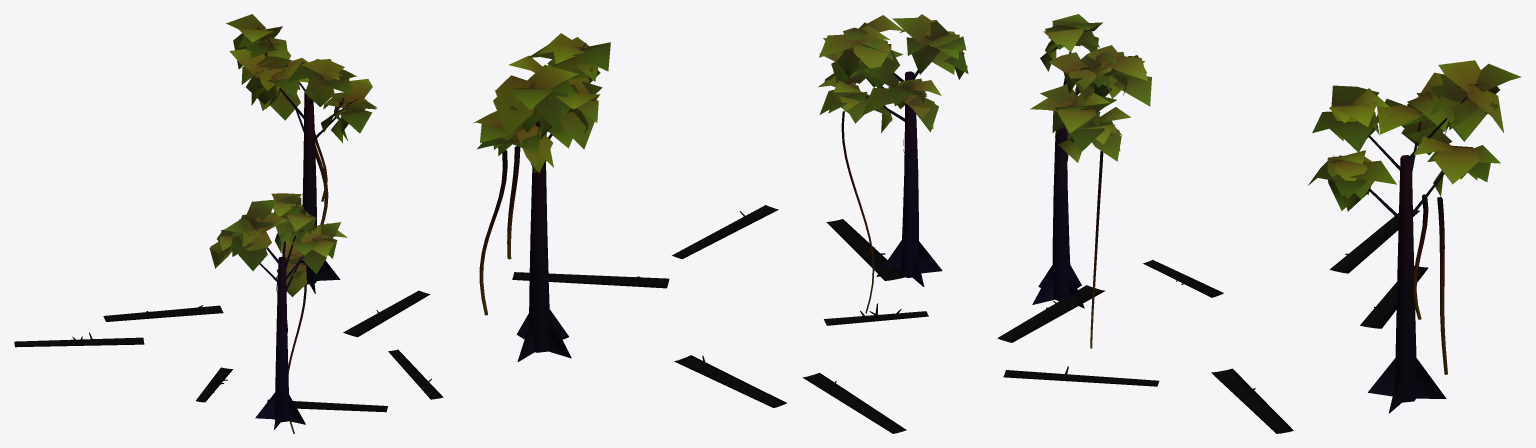
Rendered from patch_deadfall_far.glb.
3 renders of one model, left to right at view 1: azimuth 30°, elevation 25°; view 2: azimuth 150°, elevation 25°; view 3: azimuth 270°, elevation 25°, orthographic. The views are drawn at different scales.
Visible parts, largest first — view 1: patch_deadfall_far; view 2: patch_deadfall_far; view 3: patch_deadfall_far.
Boxes of the visible parts, x1,y1,x2,y2 form: patch_deadfall_far: (14, 14, 443, 433); patch_deadfall_far: (473, 14, 968, 433); patch_deadfall_far: (997, 14, 1521, 433).
Bounding box in the file's own units: 16.61 × 11.85 × 16.21.
Materials: 1 (1 with a texture image).
